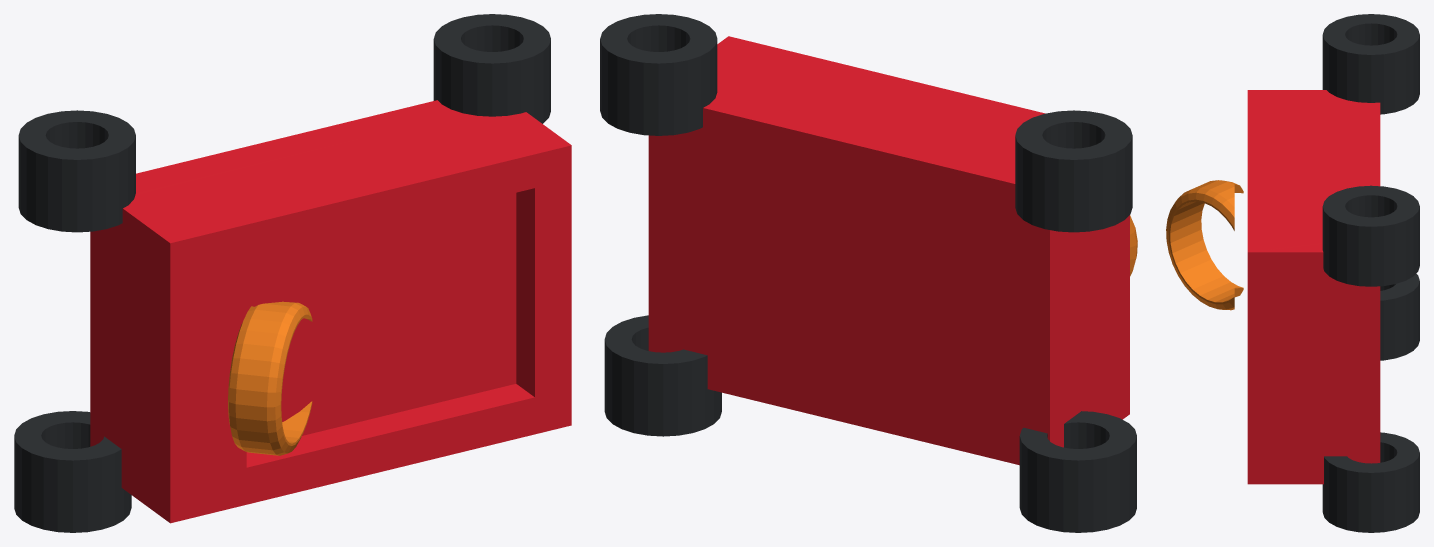
The model's file is tinker.obj.
The picture shows the model from 3 angles, left to right: view 1: azimuth 30°, elevation 25°; view 2: azimuth 150°, elevation 25°; view 3: azimuth 270°, elevation 25°; orthographic projection. The views are drawn at different scales.
Parts seen in each view (by area): view 1: group_0_15277357, group_0_2829873, group_0_16089887; view 2: group_0_15277357, group_0_2829873; view 3: group_0_15277357, group_0_2829873, group_0_16089887.
Part boxes in pixels (x1,y1,x2,y2): group_0_15277357: [90, 100, 571, 523]; group_0_2829873: [14, 14, 550, 532]; group_0_16089887: [228, 301, 312, 455]; group_0_15277357: [648, 36, 1129, 465]; group_0_2829873: [600, 14, 1136, 532]; group_0_15277357: [1247, 90, 1380, 484]; group_0_2829873: [1322, 14, 1419, 532]; group_0_16089887: [1166, 180, 1243, 310].
Size of the model in its own units: 113 by 78 by 57.51.
